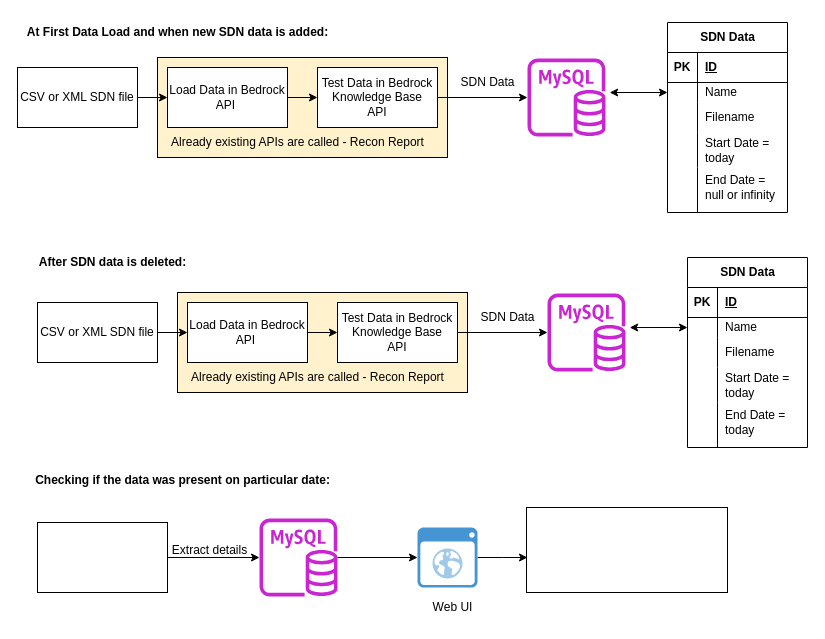
Some shapes in this 825 by 639 pixel diagram are drawn without their labels. Each missing label, with the centre of its shape:
Name and date that needs to be checked (eg: Laden, 04/15/2025): point (102, 557)
Result: {name: Laden, date: 04/15/2025, active/present: yes/no}: point (627, 549)
